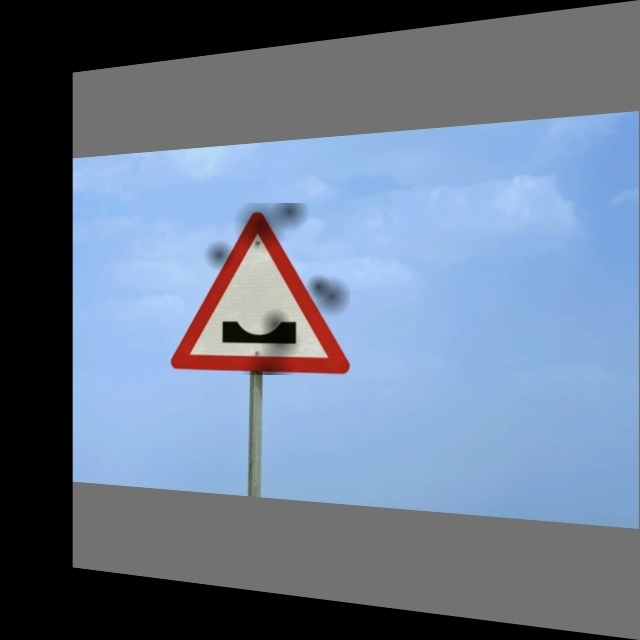Dangerous_Dip: (171, 203, 350, 375)
